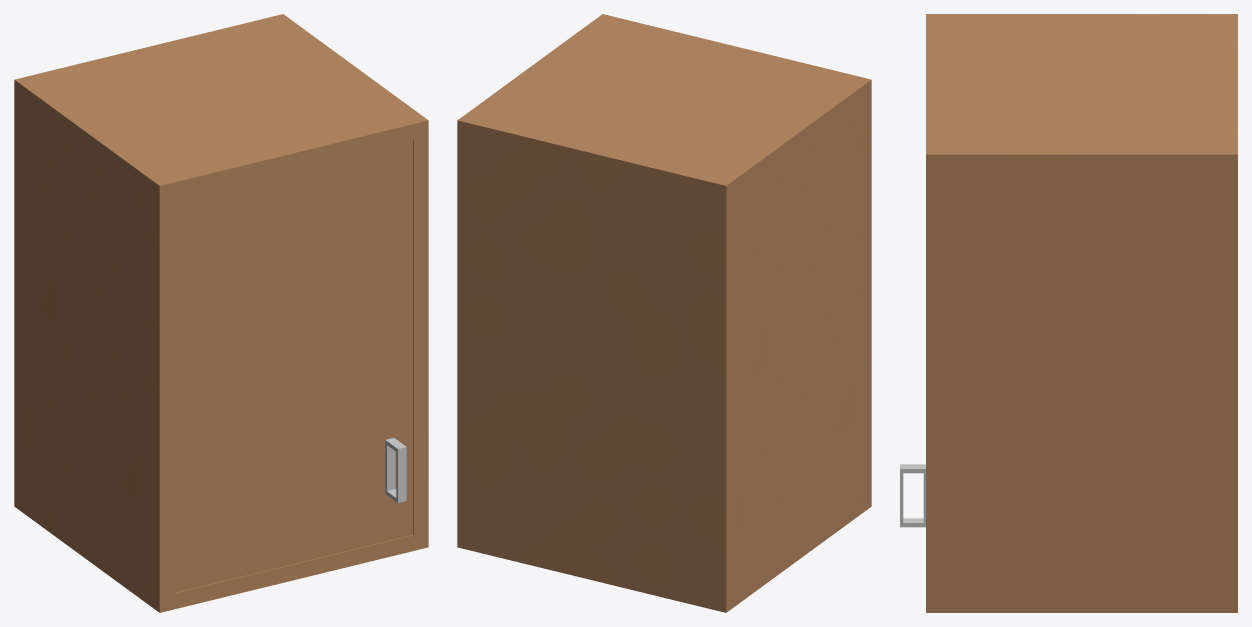
The model's file is Cabinet_03_03.fbx.
The picture shows the model from 3 angles, left to right: view 1: azimuth 30°, elevation 25°; view 2: azimuth 150°, elevation 25°; view 3: azimuth 270°, elevation 25°; orthographic projection. The views are drawn at different scales.
Parts seen in each view (by area): view 1: Cabinet_03_03, Cabinet_03_Door.002; view 2: Cabinet_03_03; view 3: Cabinet_03_03, Cabinet_03_Door.002.
Part boxes in pixels (left/top/right/bottom): Cabinet_03_03: left=14, top=14, right=428, bottom=612; Cabinet_03_Door.002: left=174, top=140, right=412, bottom=592; Cabinet_03_03: left=457, top=14, right=871, bottom=612; Cabinet_03_03: left=926, top=14, right=1237, bottom=612; Cabinet_03_Door.002: left=900, top=464, right=925, bottom=527.
Size of the model in its own units: 0.5858 by 0.889 by 0.5941.
